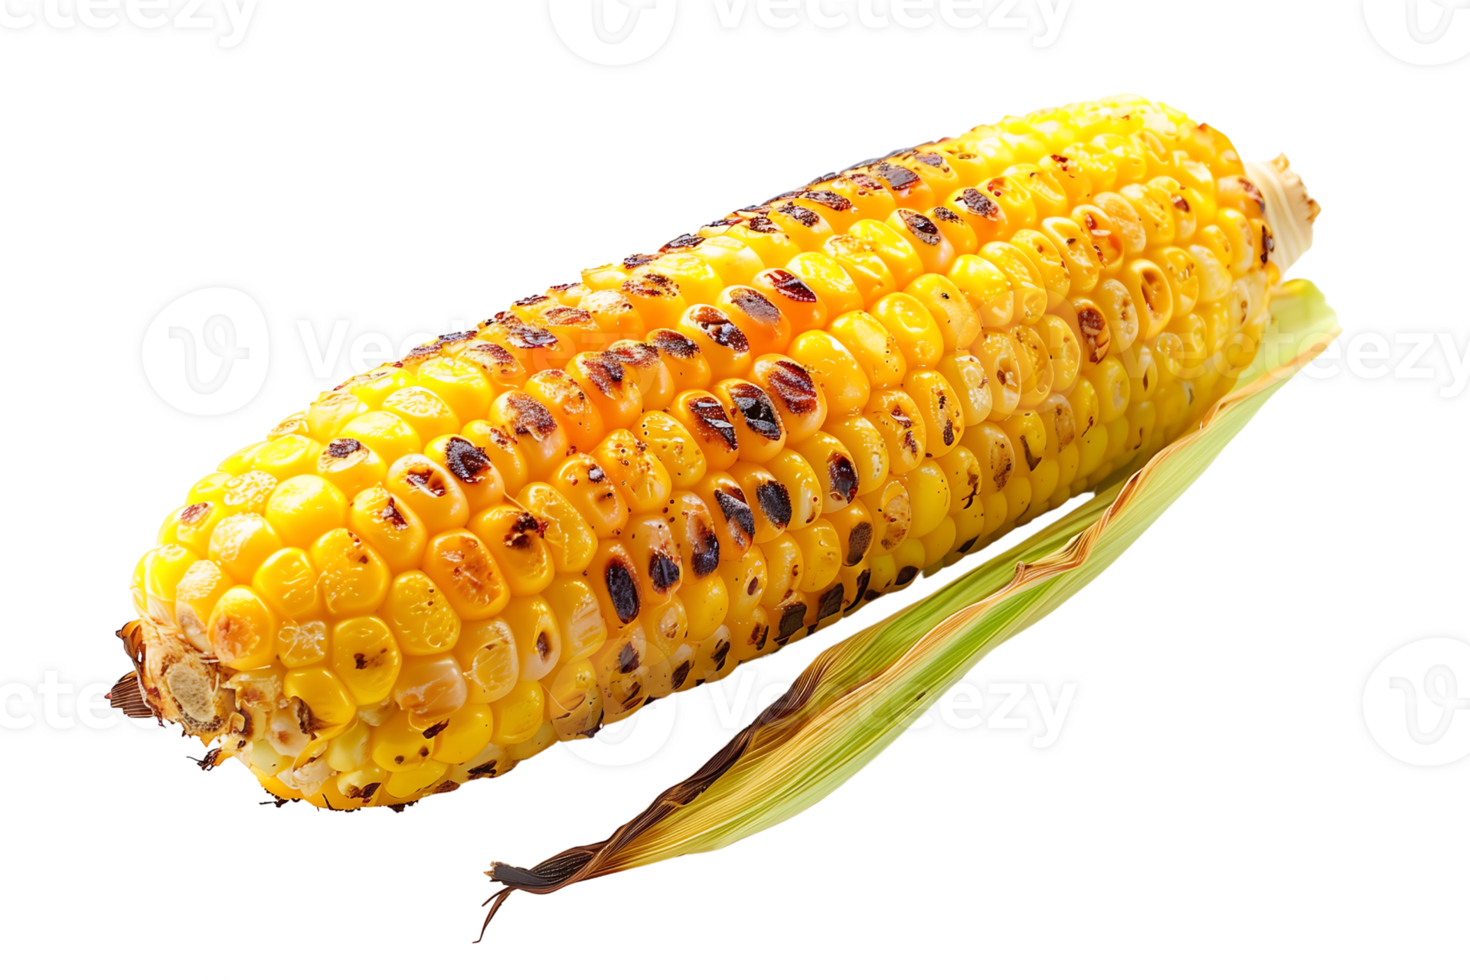corn: (129, 50, 1370, 887)
